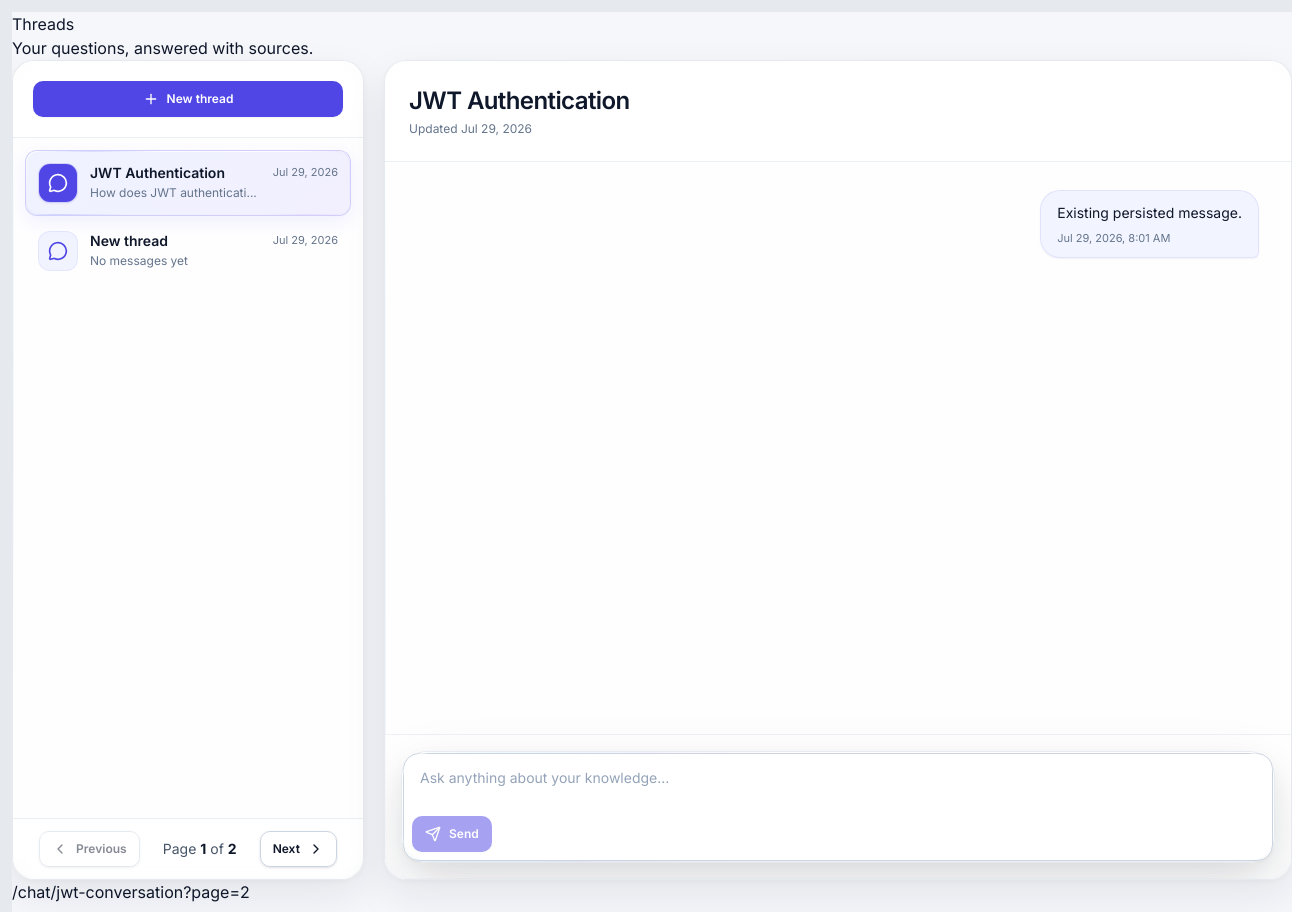
Threads page › sends one new question, reloads authoritative messages, and refreshes page one
The image size is (1292, 912).
In the text box named "Message": (838, 786) [412, 762, 1264, 810], type "Where should I store it?"
Then press Enter
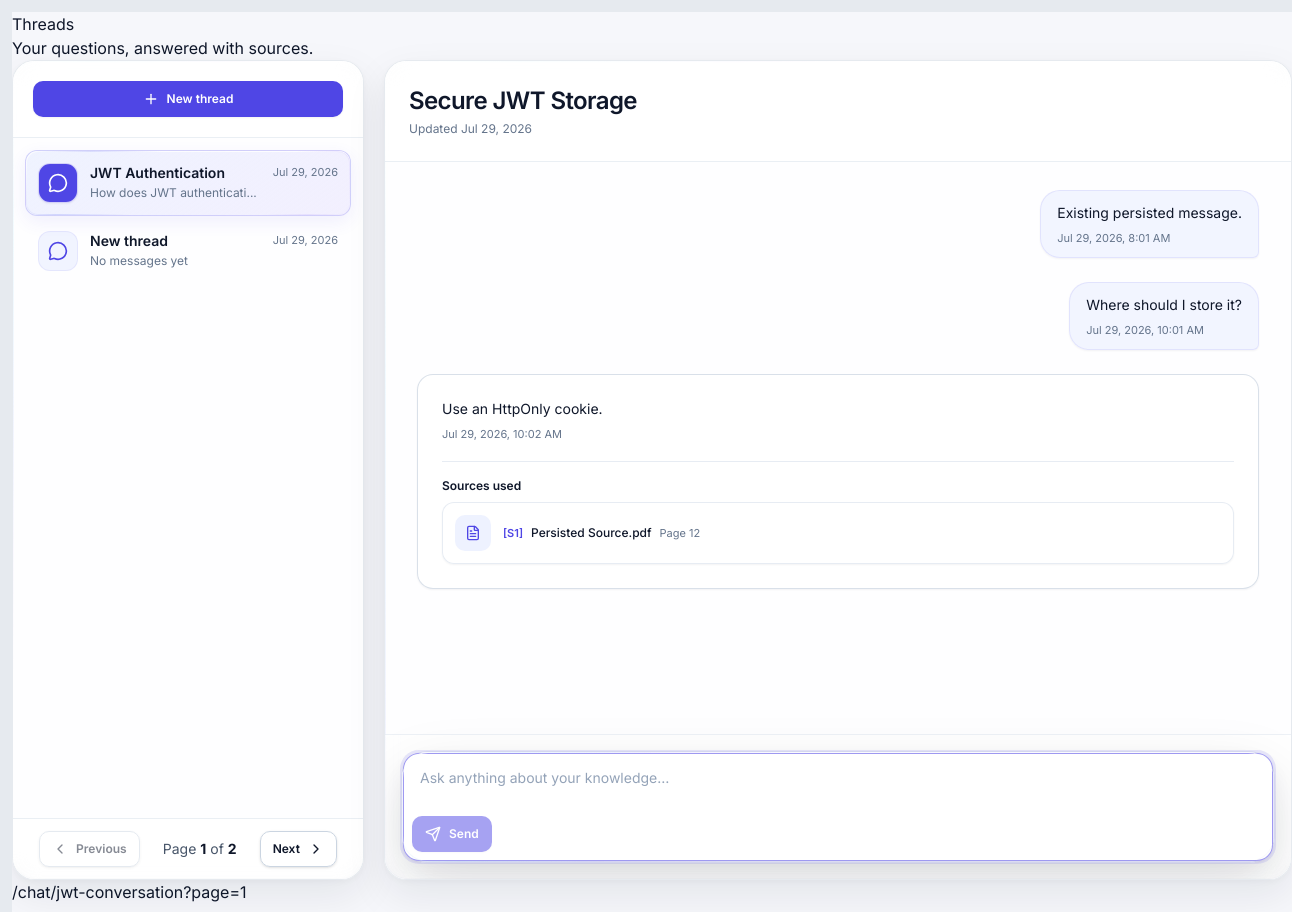
Now the text "Use an HttpOnly cookie." is shown, box [442, 400, 603, 417]
Now the text "Where should I store it?" is shown, box [1086, 295, 1242, 315]
Now the heading "Secure JWT Storage" is shown, box [409, 86, 637, 115]
